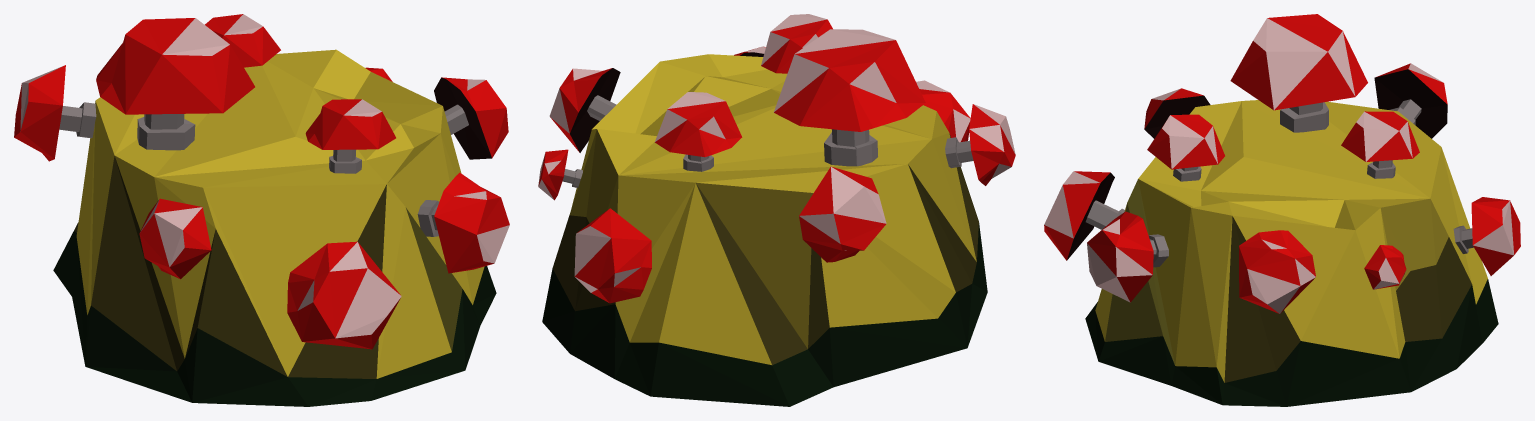
The model's file is mush_tree_old_dead.FBX.
3 views of the same model, side by side, from view 1: azimuth 30°, elevation 25°; view 2: azimuth 150°, elevation 25°; view 3: azimuth 270°, elevation 25° (orthographic). The views are drawn at different scales.
Parts seen in each view (by area): view 1: mush_tree_old_dead; view 2: mush_tree_old_dead; view 3: mush_tree_old_dead.
Boxes of the visible parts, box(x1,y1,x2,y2) form: mush_tree_old_dead: box(14, 14, 509, 406); mush_tree_old_dead: box(538, 14, 1015, 406); mush_tree_old_dead: box(1044, 14, 1520, 406).
Size of the model in its own units: 1.4 by 1.6 by 0.9507.
